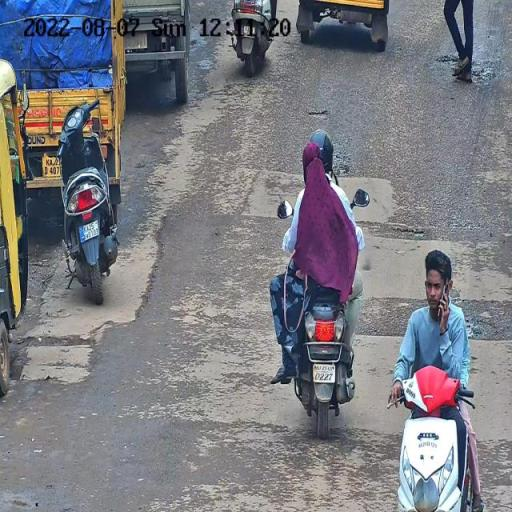using mobile: (430, 277, 452, 328)
